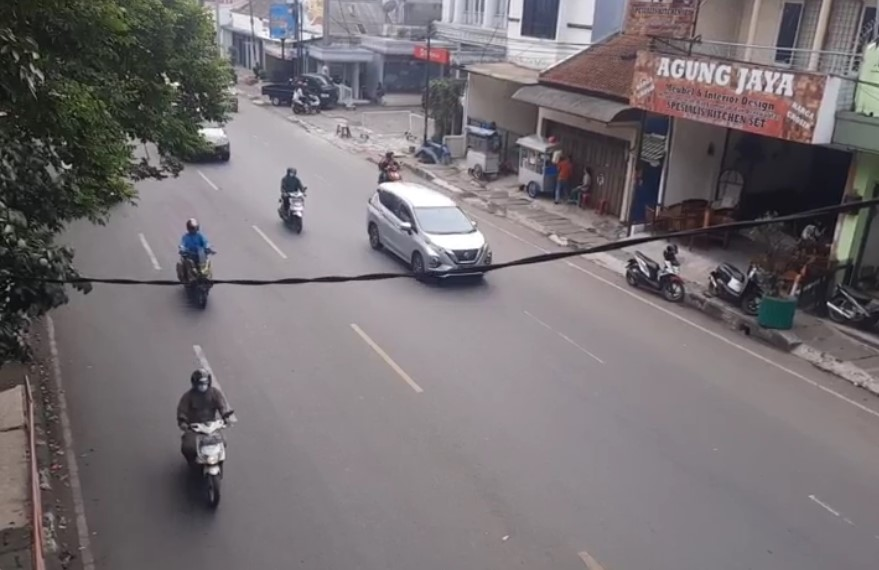mobil: (366, 182, 491, 292)
motor: (173, 370, 244, 507), (167, 220, 216, 311), (280, 164, 310, 232)
